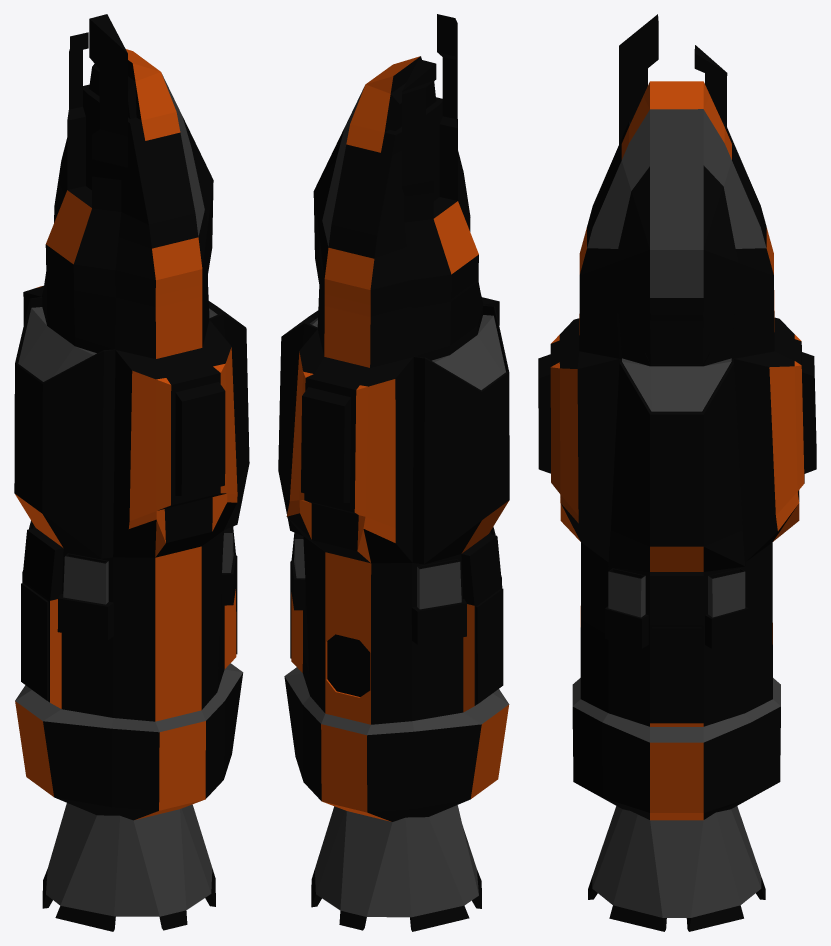
File: Rocinanta_TheExpanse.fbx
3 renders of one model, left to right at view 1: azimuth 30°, elevation 25°; view 2: azimuth 150°, elevation 25°; view 3: azimuth 270°, elevation 25°, orthographic. The views are drawn at different scales.
Parts seen in each view (by area): view 1: Ship; view 2: Ship; view 3: Ship.
Part boxes in pixels (x1,y1,x2,y2): Ship: [14, 14, 249, 931]; Ship: [278, 14, 509, 931]; Ship: [538, 14, 816, 931].
Bounding box in the file's own units: 126 × 522 × 153.
